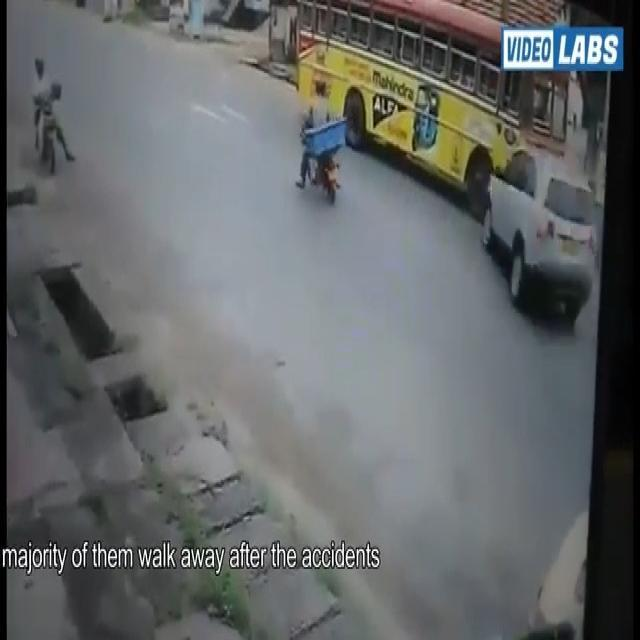multiple_accident: (427, 81, 584, 290)
